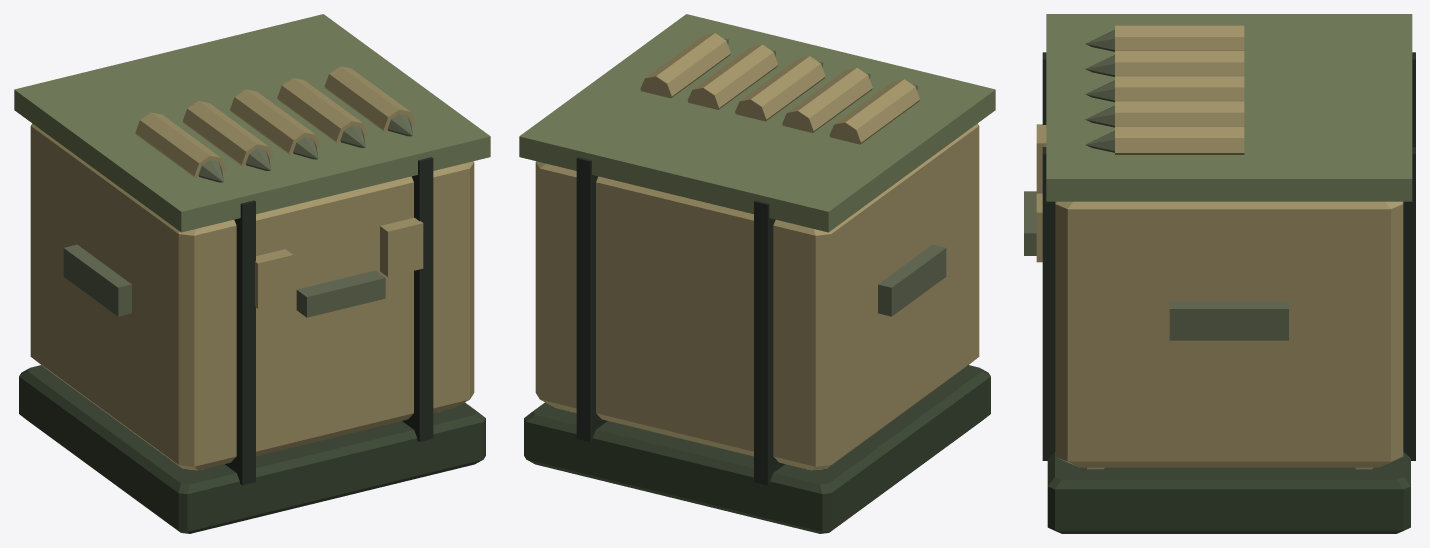
File: ammo_feed.obj
3 views of the same model, side by side, from view 1: azimuth 30°, elevation 25°; view 2: azimuth 150°, elevation 25°; view 3: azimuth 270°, elevation 25° (orthographic). The views are drawn at different scales.
Parts seen in each view (by area): view 1: BASE.002; view 2: BASE.002; view 3: BASE.002.
Part boxes in pixels (box(x1,y1,x2,y2)): BASE.002: box(14, 14, 490, 533); BASE.002: box(519, 14, 995, 533); BASE.002: box(1024, 14, 1415, 533).
Size of the model in its own units: 0.82 by 0.84 by 0.7875.
Materials: 1 (1 with a texture image).
